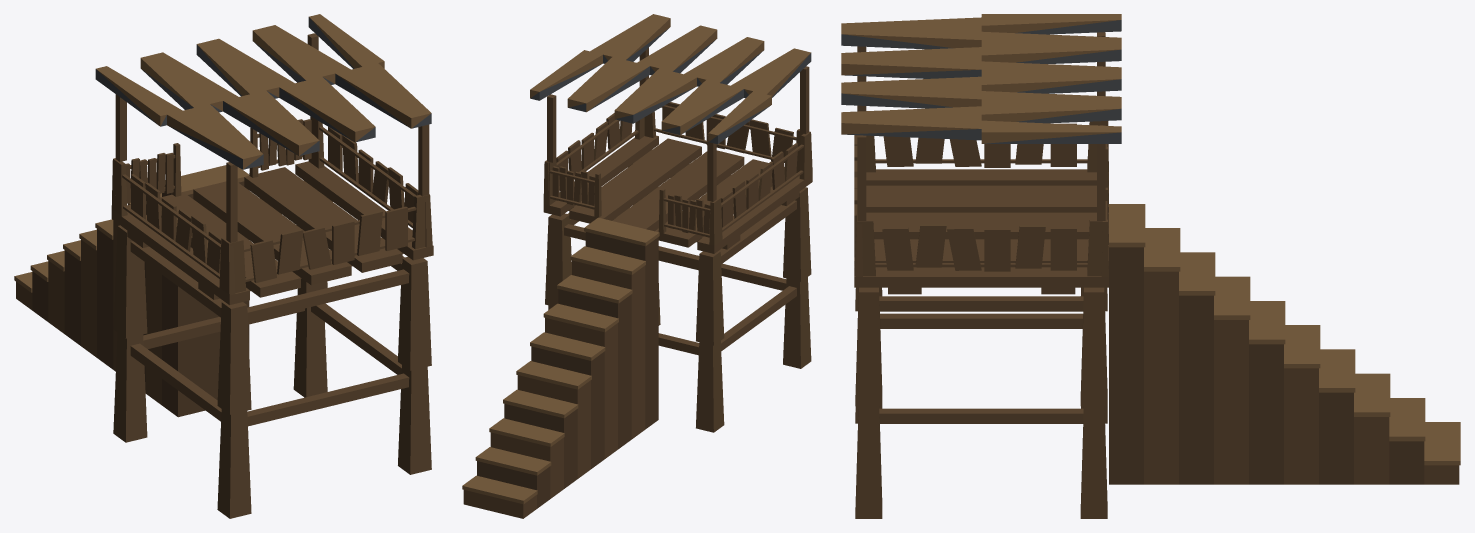
The model's file is tower.glb.
3 renders of one model, left to right at view 1: azimuth 30°, elevation 25°; view 2: azimuth 150°, elevation 25°; view 3: azimuth 270°, elevation 25°, orthographic. The views are drawn at different scales.
Parts seen in each view (by area): view 1: lod0; view 2: lod0; view 3: lod0.
Boxes of the visible parts, box(x1,y1,x2,y2) form: lod0: box(14, 14, 433, 518); lod0: box(462, 14, 812, 518); lod0: box(841, 14, 1460, 518).
Size of what is drawn, in the model's own units: 4.4 by 6.8 by 9.72.
